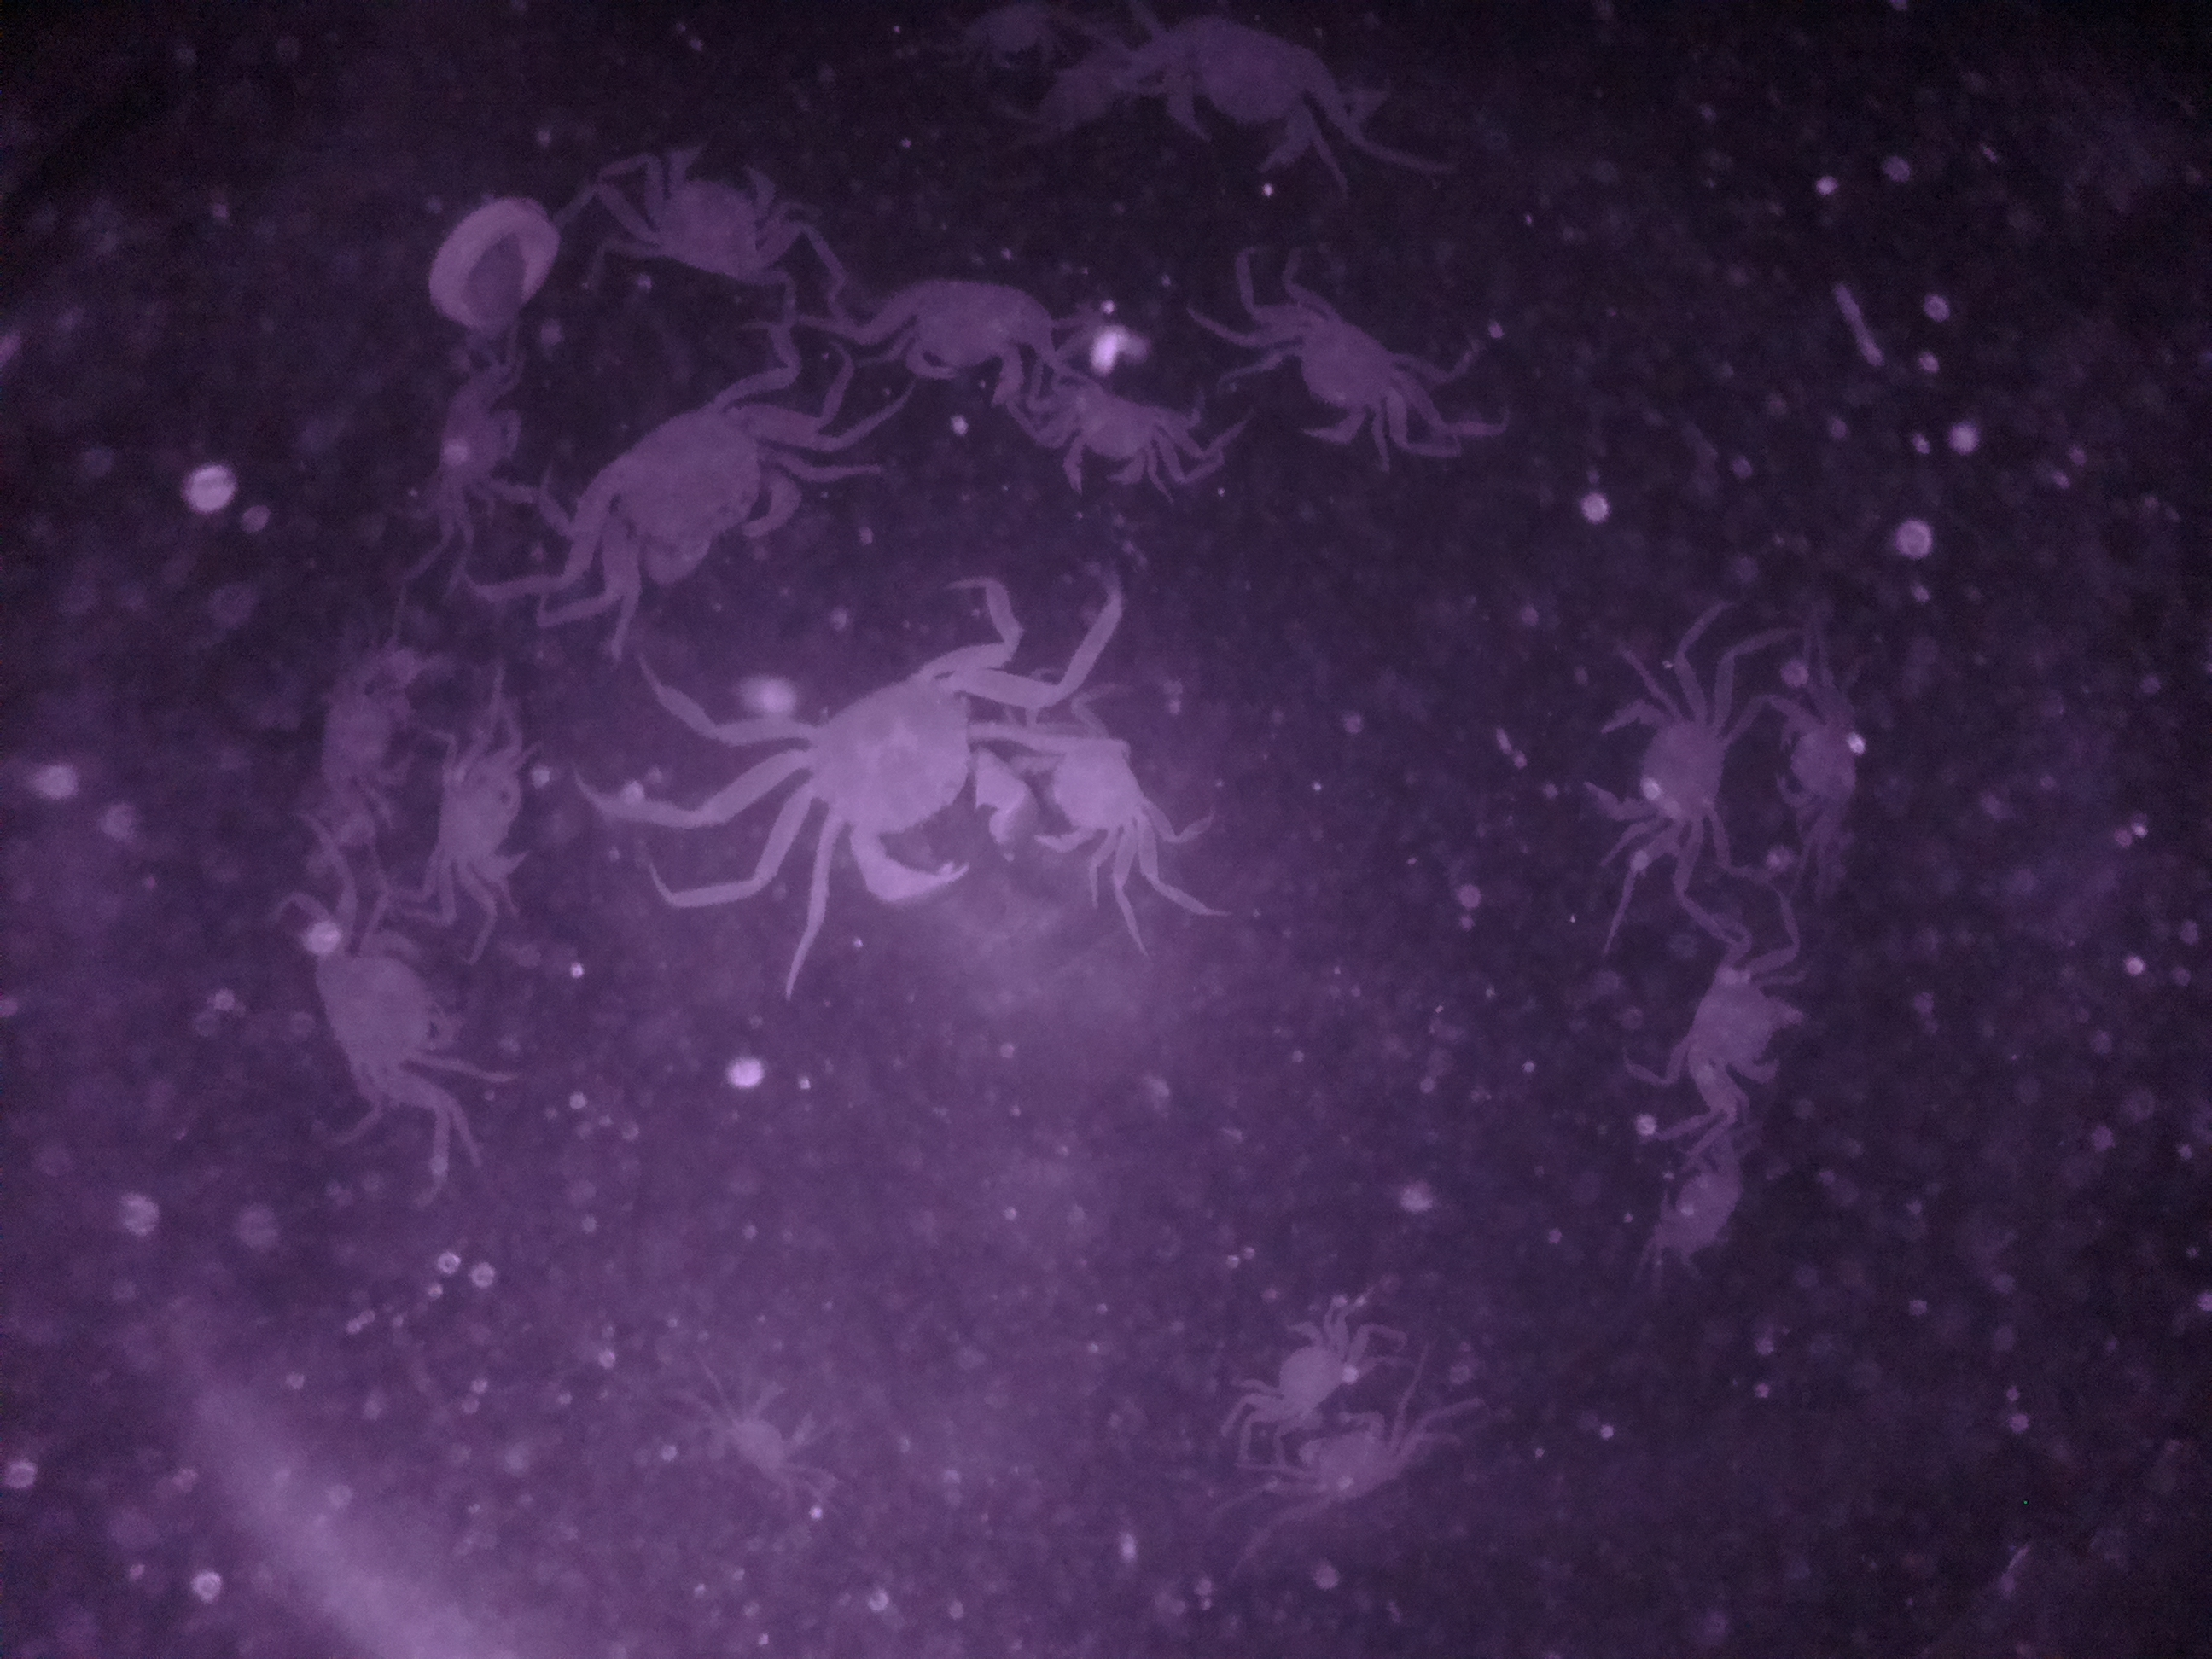Crab: (777, 653, 1029, 927), (561, 390, 805, 608), (1003, 702, 1209, 896), (1129, 10, 1355, 173), (1562, 681, 1749, 859), (289, 924, 451, 1121), (606, 136, 805, 286), (1244, 293, 1432, 448), (860, 265, 1049, 397), (1663, 950, 1817, 1108), (413, 716, 540, 896), (1282, 1389, 1432, 1527), (1639, 1121, 1761, 1272), (1763, 671, 1878, 829), (1043, 378, 1188, 502), (1224, 1298, 1355, 1431)
